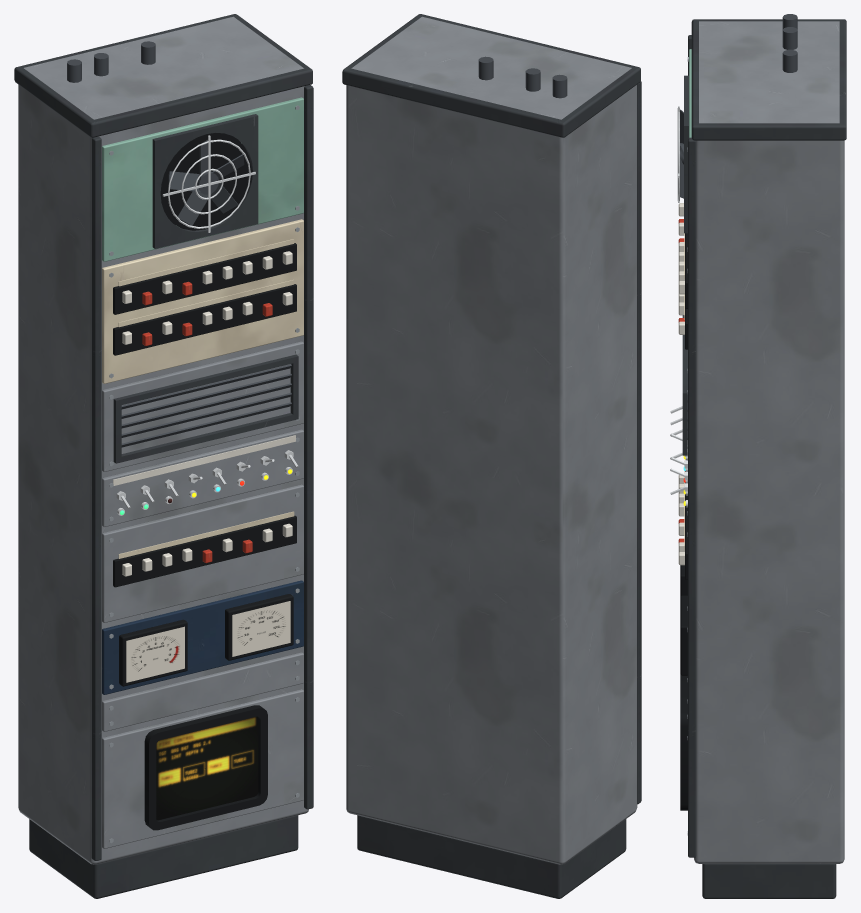
The model's file is Rack_60_6.glb.
The picture shows the model from 3 angles, left to right: view 1: azimuth 30°, elevation 25°; view 2: azimuth 150°, elevation 25°; view 3: azimuth 270°, elevation 25°; orthographic projection.
Visible parts, largest first — view 1: Rack_60_6_Body; view 2: Rack_60_6_Body; view 3: Rack_60_6_Body.
Part boxes in pixels (x1,y1,x2,y2): Rack_60_6_Body: (14,14,313,898); Rack_60_6_Body: (342,14,641,898); Rack_60_6_Body: (670,14,846,898).
Size of the model in its own units: 0.61 by 2.1 by 0.4216.
19 materials, 10 textured.
